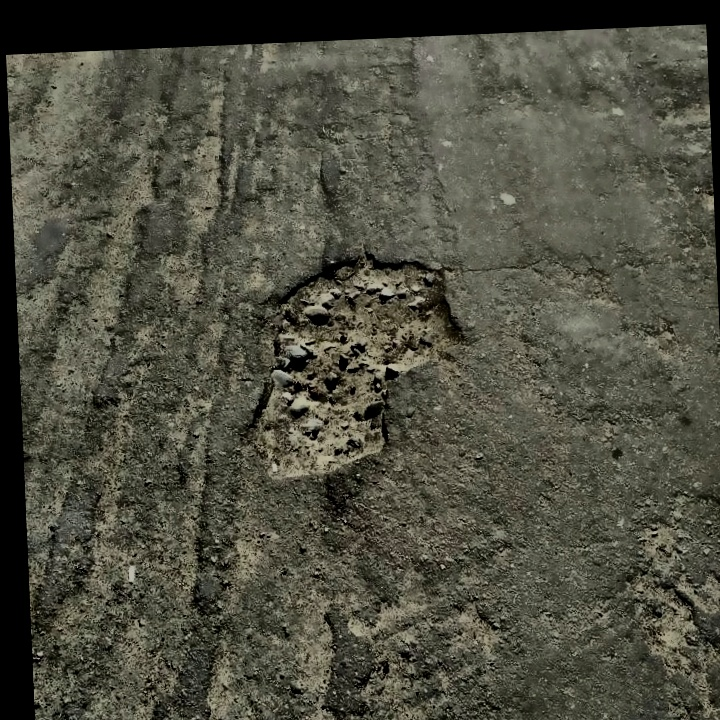pothole: (236, 243, 476, 489)
